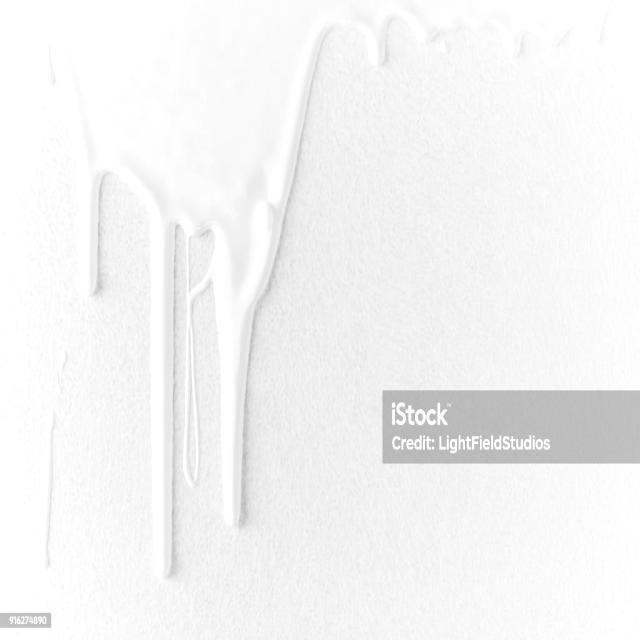paint drips: (43, 27, 320, 599), (353, 5, 622, 104)
